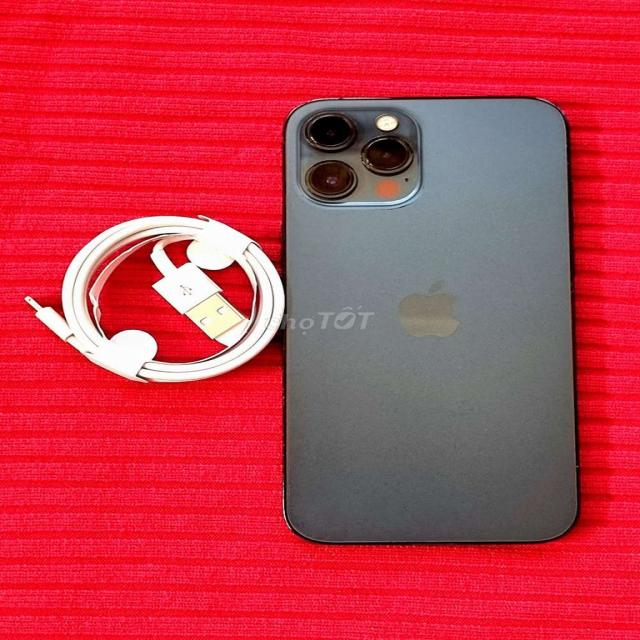gen_12_13: (278, 93, 599, 561)
